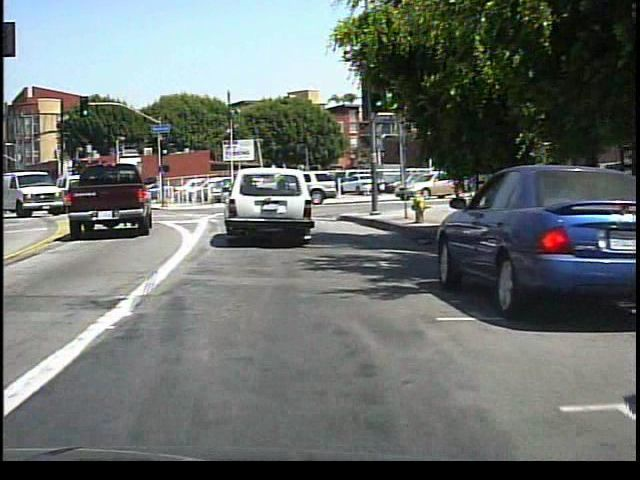person: (364, 166, 381, 201)
